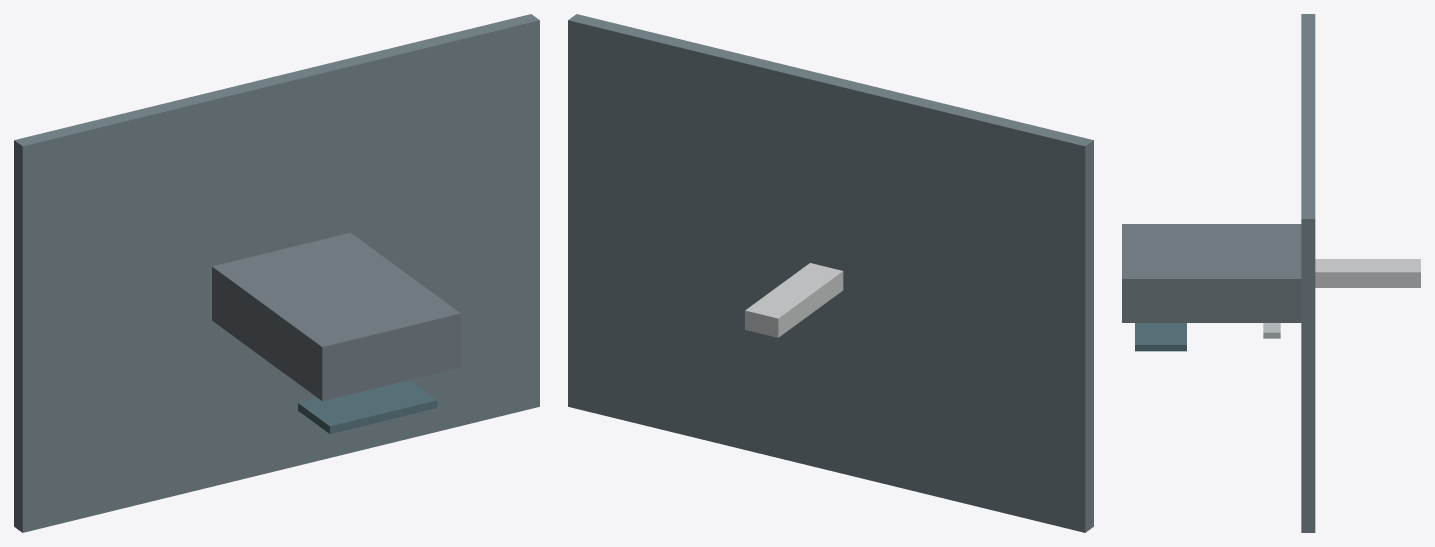
File: glucose-meter-high.glb
The picture shows the model from 3 angles, left to right: view 1: azimuth 30°, elevation 25°; view 2: azimuth 150°, elevation 25°; view 3: azimuth 270°, elevation 25°; orthographic projection. The views are drawn at different scales.
Parts seen in each view (by area): view 1: presentation_base_detail, meter_body, meter_display_bezel_detail; view 2: presentation_base_detail, test_strip; view 3: meter_body, presentation_base_detail, test_strip, meter_display_bezel_detail.
Boxes of the visible parts, x1,y1,x2,y2 form: presentation_base_detail: (14,14,539,532); meter_body: (212,232,460,401); meter_display_bezel_detail: (298,380,437,433); presentation_base_detail: (568,14,1093,532); test_strip: (745,263,843,337); meter_body: (1122,224,1301,322); presentation_base_detail: (1301,14,1315,532); test_strip: (1315,259,1420,287); meter_display_bezel_detail: (1135,323,1186,351).
Bounding box in the file's own units: 2.8 × 2 × 1.72.
